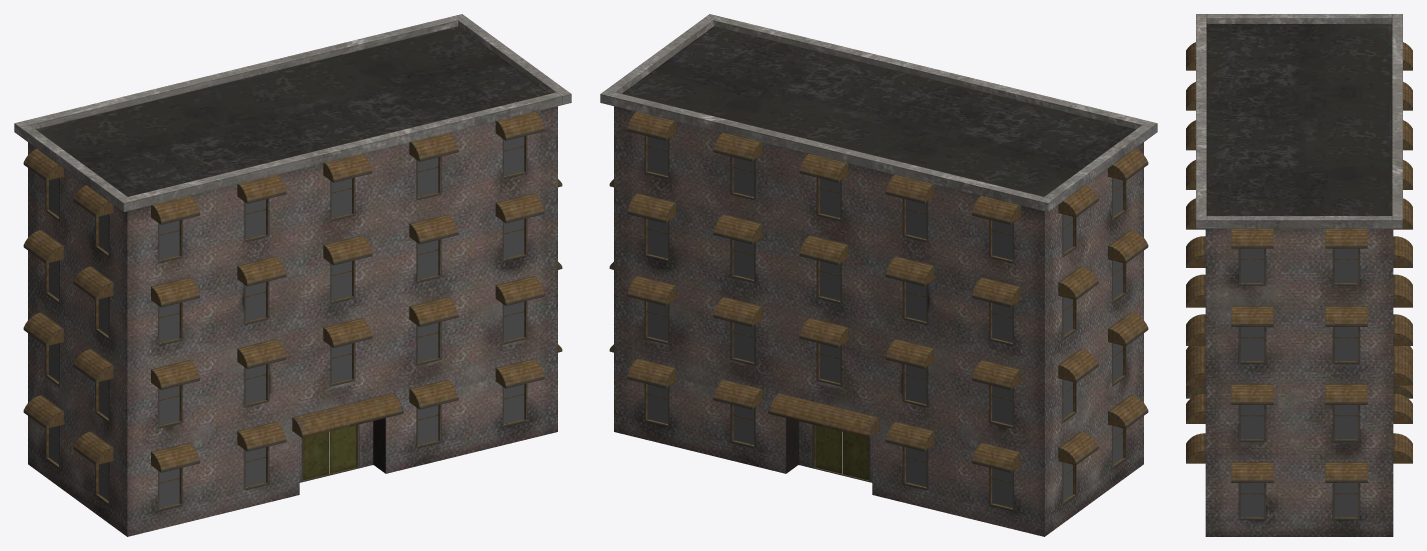
Rendered from sf_apartment_3.glb.
3 renders of one model, left to right at view 1: azimuth 30°, elevation 25°; view 2: azimuth 150°, elevation 25°; view 3: azimuth 270°, elevation 25°, orthographic. The views are drawn at different scales.
Parts seen in each view (by area): view 1: Material2 (×2); view 2: Material2 (×2); view 3: Material2 (×2).
Boxes of the visible parts, x1,y1,x2,y2 form: Material2 (×2): (14, 14, 571, 536); Material2 (×2): (600, 14, 1157, 536); Material2 (×2): (1186, 14, 1412, 536).
Bounding box in the file's own units: 25.89 × 18 × 11.55.
2 materials, 1 textured.
